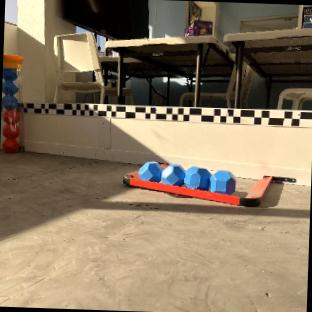V5_BLUE: (140, 162, 162, 181)
V5_RED: (3, 110, 18, 151)
